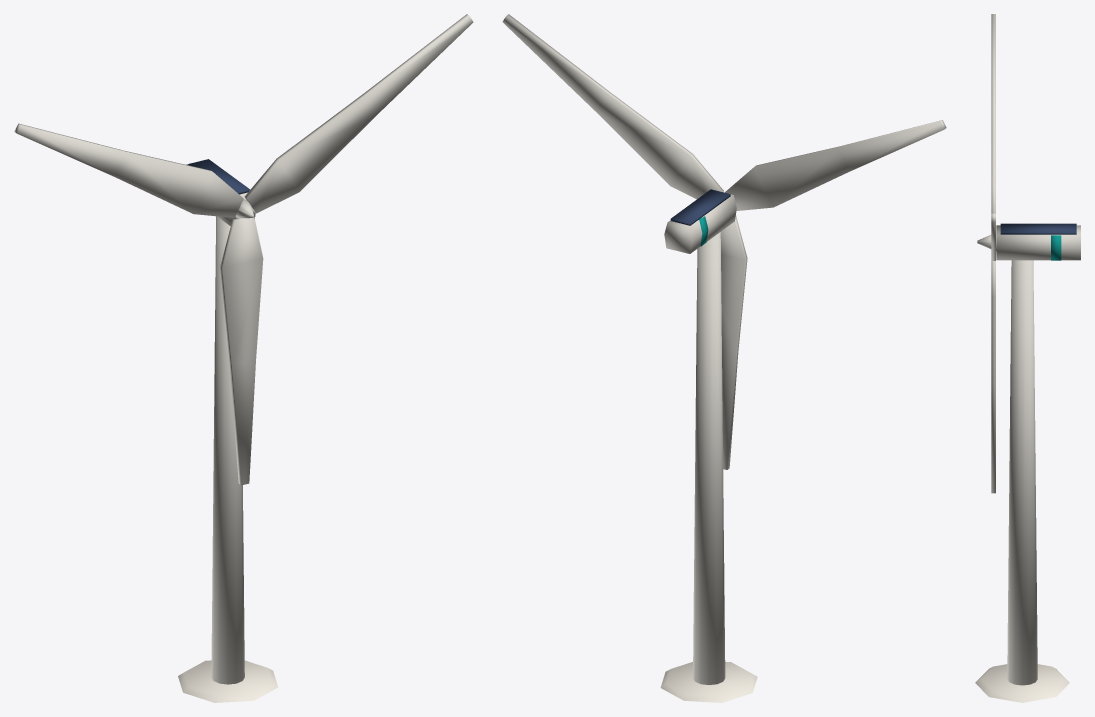
Rendered from aerogerador.glb.
3 renders of one model, left to right at view 1: azimuth 30°, elevation 25°; view 2: azimuth 150°, elevation 25°; view 3: azimuth 270°, elevation 25°, orthographic. The views are drawn at different scales.
Parts seen in each view (by area): view 1: rotor, torre; view 2: torre, rotor; view 3: torre, rotor.
Boxes of the visible parts, left/top/right/bottom form: rotor: left=14, top=14, right=473, bottom=485; torre: left=178, top=159, right=278, bottom=702; torre: left=660, top=189, right=757, bottom=702; rotor: left=502, top=14, right=946, bottom=469; torre: left=975, top=223, right=1080, bottom=702; rotor: left=977, top=14, right=996, bottom=493.
Size of the model in its own units: 101 by 132 by 22.3.
